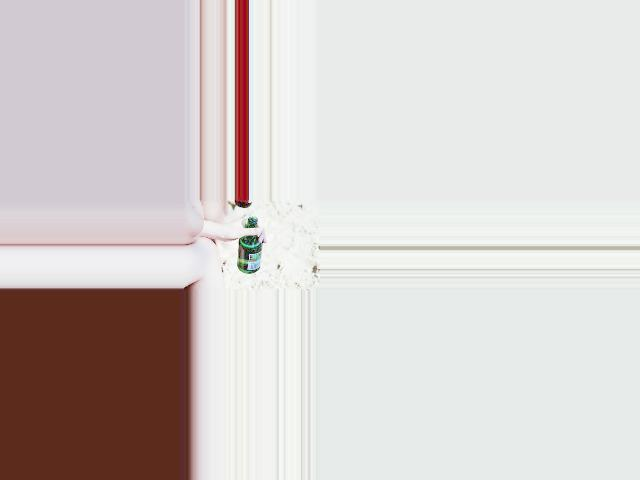beer: (236, 216, 261, 274)
